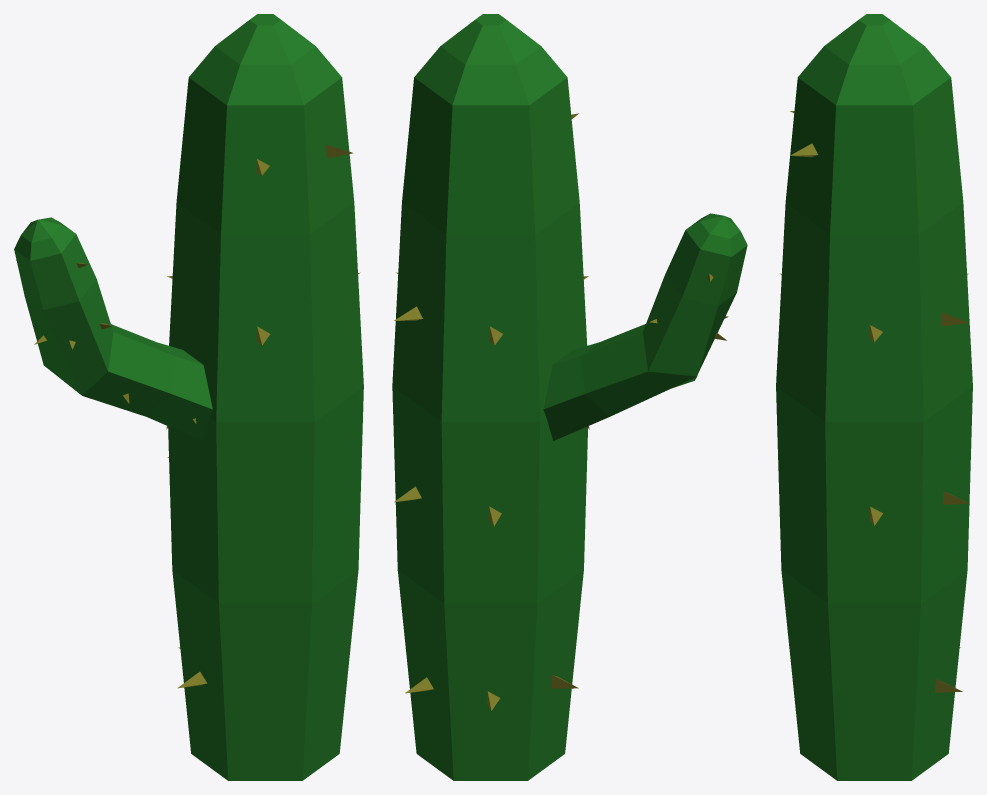
The model's file is Cactus_5_Green.fbx.
The picture shows the model from 3 angles, left to right: view 1: azimuth 30°, elevation 25°; view 2: azimuth 150°, elevation 25°; view 3: azimuth 270°, elevation 25°; orthographic projection.
Visible parts, largest first — view 1: Cactus_5_Green_Mat_1, Cactus_5_Green_Mat_2; view 2: Cactus_5_Green_Mat_1, Cactus_5_Green_Mat_2; view 3: Cactus_5_Green_Mat_1, Cactus_5_Green_Mat_2.
Boxes of the visible parts, x1,y1,x2,y2 form: Cactus_5_Green_Mat_1: [14, 14, 363, 780]; Cactus_5_Green_Mat_2: [16, 144, 360, 688]; Cactus_5_Green_Mat_1: [392, 14, 747, 780]; Cactus_5_Green_Mat_2: [394, 113, 728, 710]; Cactus_5_Green_Mat_1: [776, 14, 972, 780]; Cactus_5_Green_Mat_2: [780, 111, 968, 692].
Bounding box in the file's own units: 146 × 299 × 72.81.
